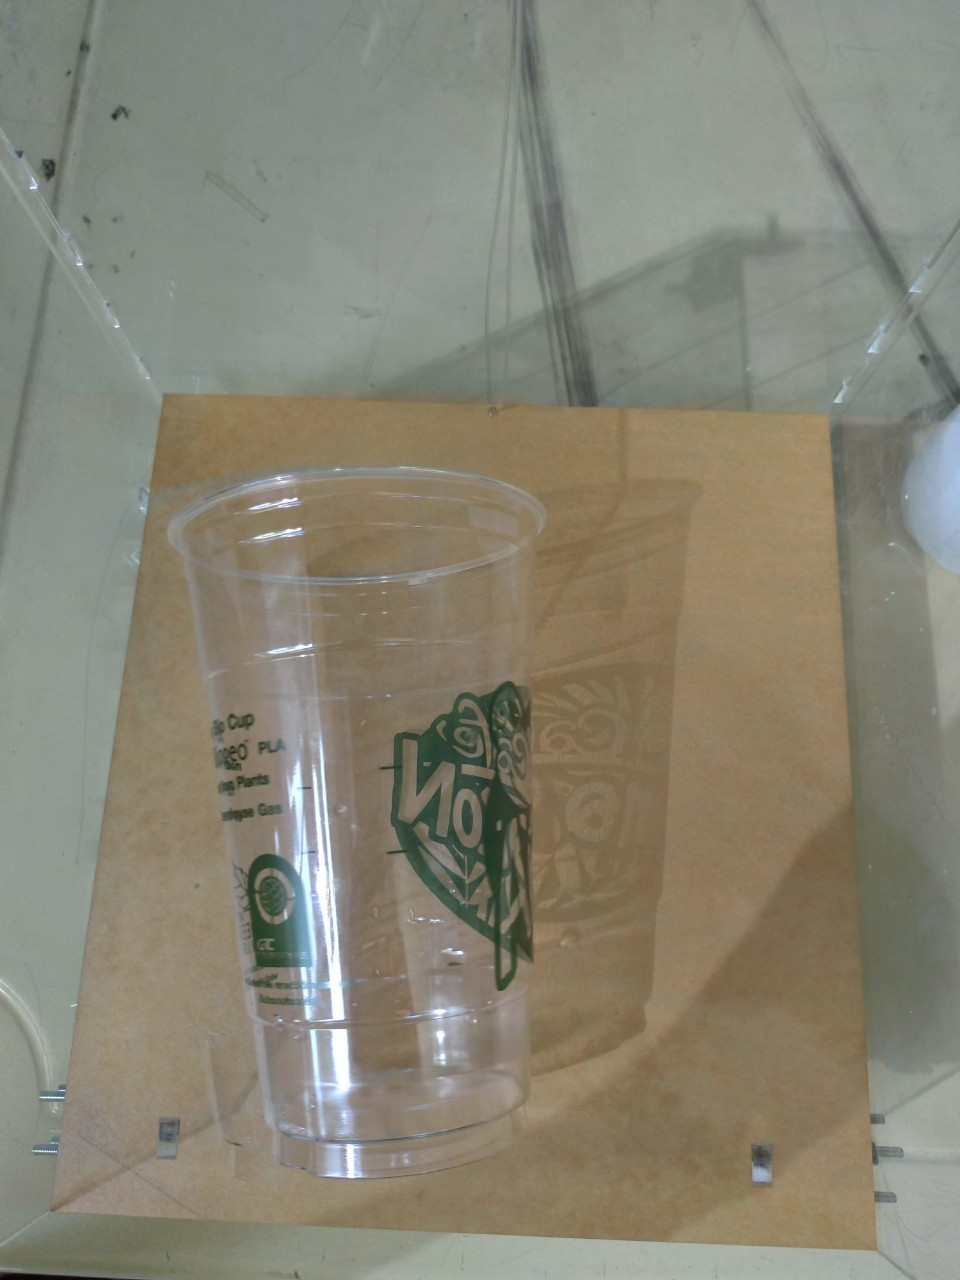PlasticCup: (163, 461, 549, 1178)
